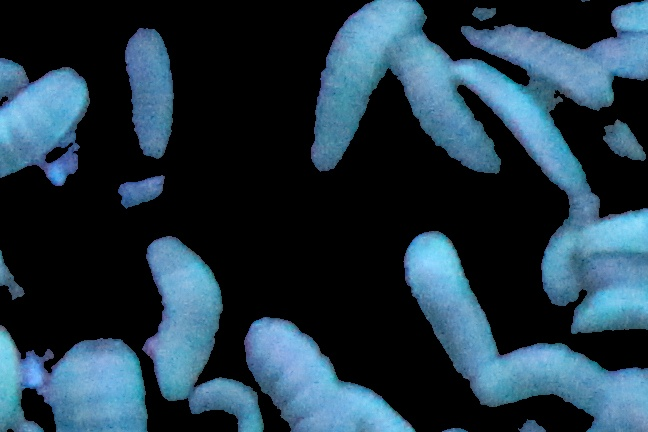larvae: (300, 1, 429, 174), (450, 62, 598, 188), (390, 38, 514, 176), (396, 231, 503, 380), (463, 12, 615, 107), (141, 235, 224, 397), (1, 63, 91, 179), (45, 337, 152, 432), (240, 314, 334, 415), (112, 27, 181, 163), (476, 343, 610, 409), (540, 189, 599, 305), (296, 382, 416, 432), (189, 379, 263, 432), (573, 292, 648, 336), (575, 208, 648, 252)
